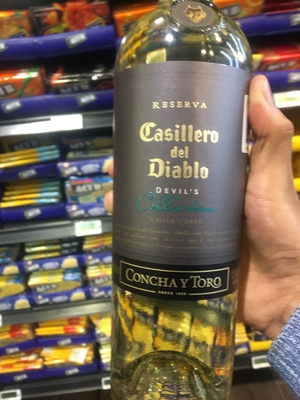casillero del diablo devils collection verde: (102, 15, 264, 398)
